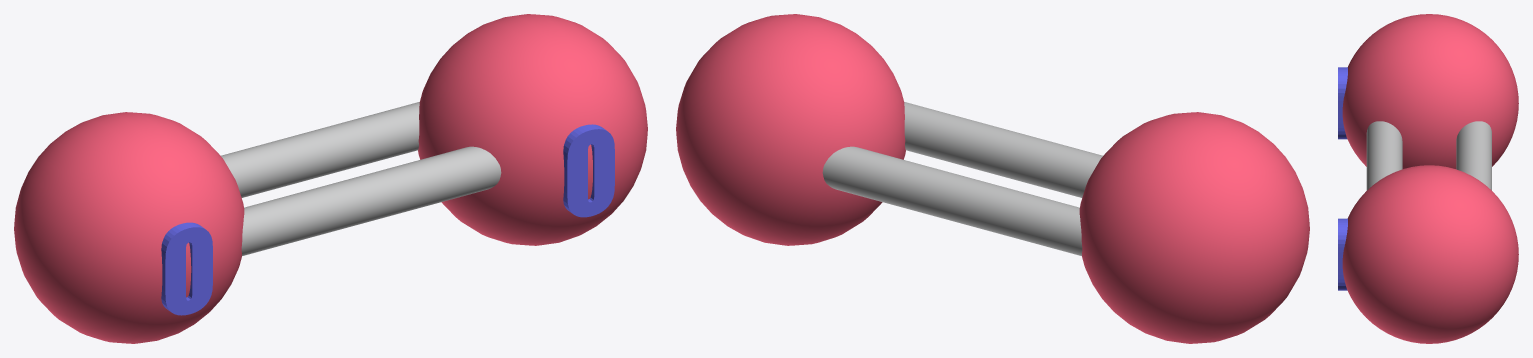
The model's file is asset.glb.
3 views of the same model, side by side, from view 1: azimuth 30°, elevation 25°; view 2: azimuth 150°, elevation 25°; view 3: azimuth 270°, elevation 25° (orthographic). The views are drawn at different scales.
Parts seen in each view (by area): view 1: 3DGeom-3, 3DGeom-1, 3DGeom-2; view 2: 3DGeom-3, 3DGeom-1; view 3: 3DGeom-3, 3DGeom-1, 3DGeom-2.
Part boxes in pixels (left/top/right/bottom): 3DGeom-3: left=14, top=14, right=647, bottom=343; 3DGeom-1: left=221, top=102, right=501, bottom=255; 3DGeom-2: left=161, top=124, right=614, bottom=315; 3DGeom-3: left=676, top=14, right=1309, bottom=343; 3DGeom-1: left=822, top=102, right=1102, bottom=255; 3DGeom-3: left=1342, top=14, right=1518, bottom=343; 3DGeom-1: left=1366, top=121, right=1491, bottom=190; 3DGeom-2: left=1338, top=67, right=1347, bottom=290.
Bounding box in the file's own units: 0.6 × 0.2 × 0.202.
